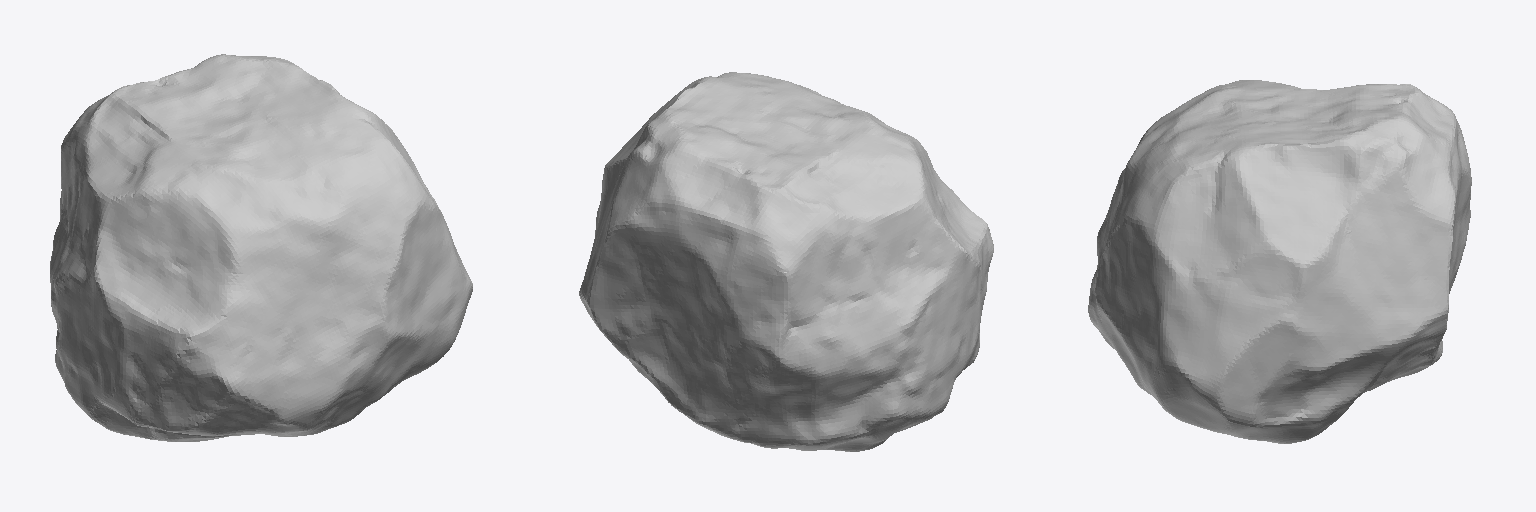
File: rock 5 gb rs.obj
3 views of the same model, side by side, from view 1: azimuth 30°, elevation 25°; view 2: azimuth 150°, elevation 25°; view 3: azimuth 270°, elevation 25° (orthographic).
Size of the model in its own units: 2 by 1.62 by 1.85.